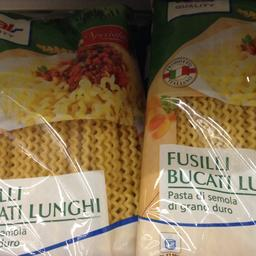pasta: (0, 10, 144, 255), (138, 1, 254, 255)
